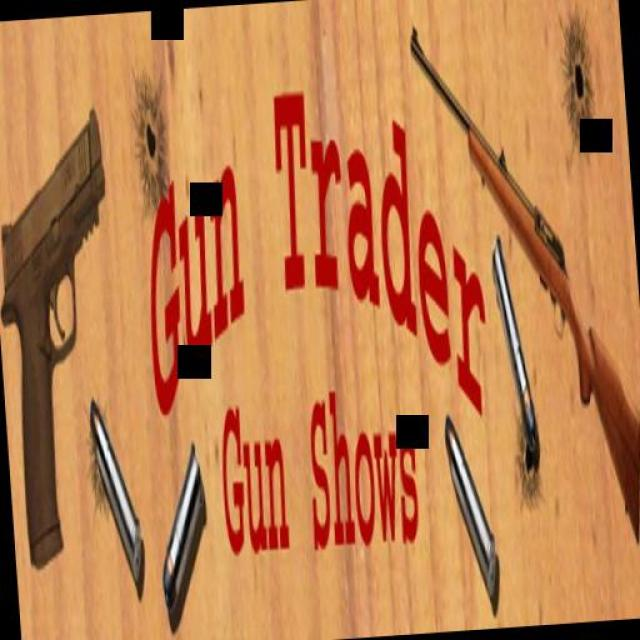gun: (0, 94, 131, 568)
